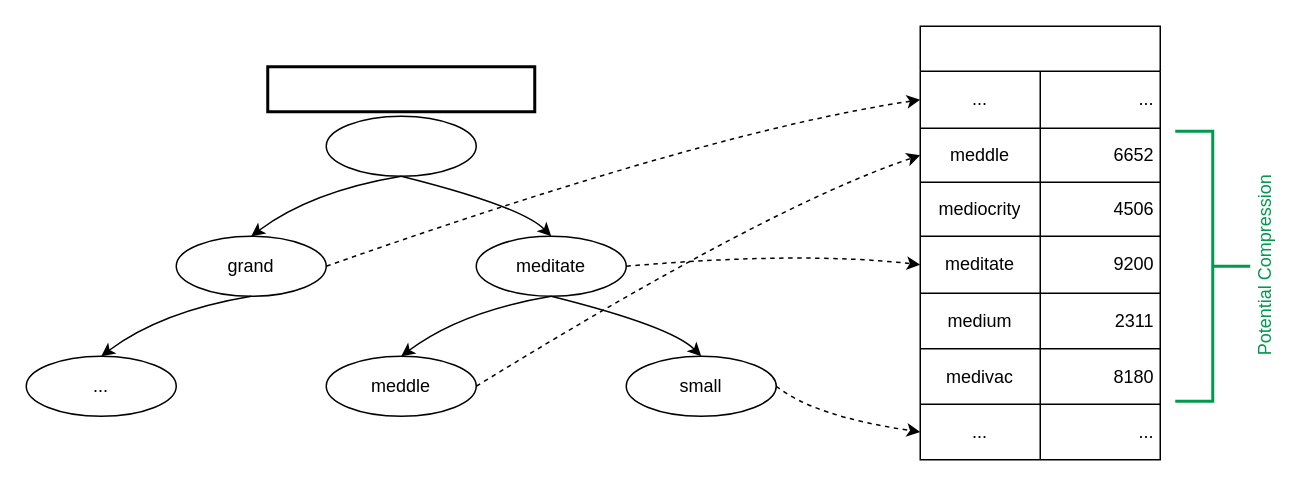
Image size: 1307x486. Some labels were removed from this diagram. The box of each missing label's shape, as (x1, y1, x2, y2) in pixels:
root: (325, 115, 476, 176)
Sparse In-Memory Index: (266, 64, 536, 112)
store.db: (919, 25, 1160, 460)
